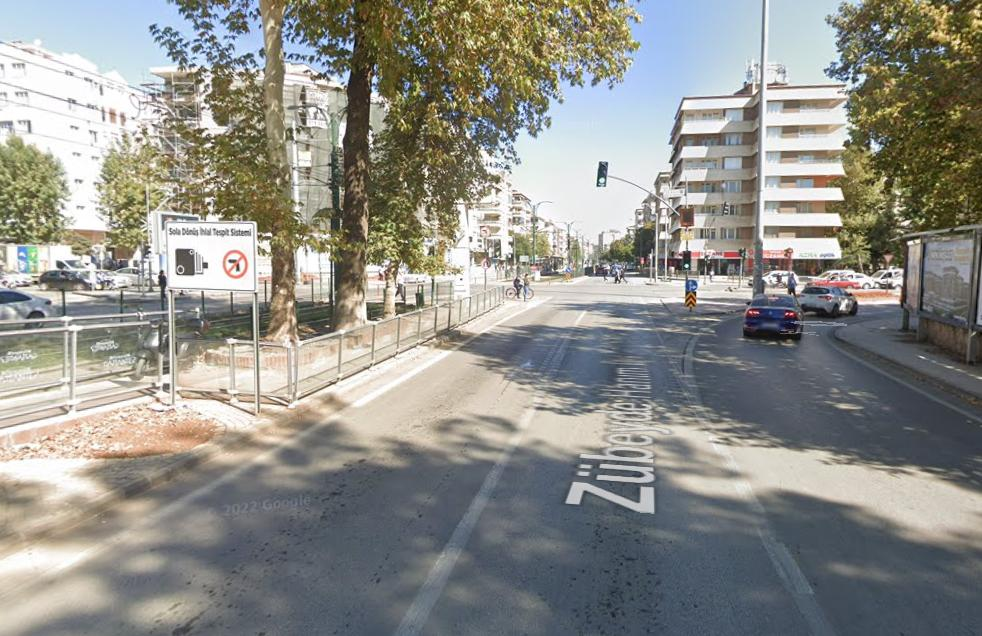greenlight: (597, 163, 608, 189), (683, 252, 691, 271)
leftturnsareforbidden: (222, 248, 249, 278), (481, 226, 491, 236)
